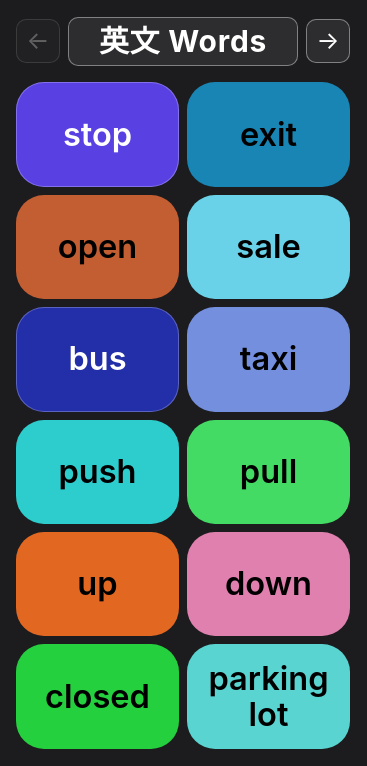
plays a Taigi audio clip on the food page
The image size is (367, 766).
Later steps or results of the test are not shown.
Click the button named "Next page": click(328, 41) [306,19,350,63]
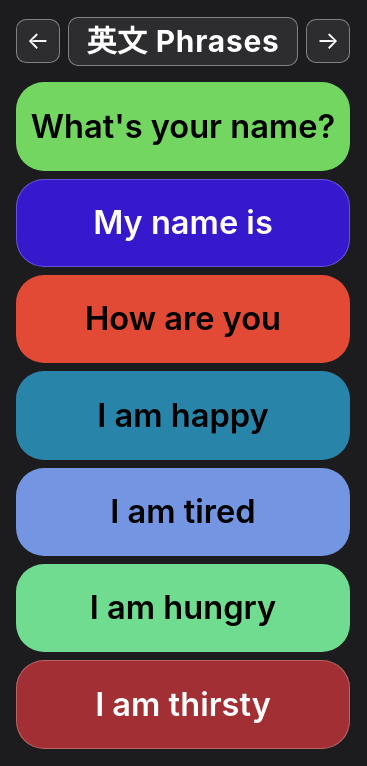
Click the button named "Next page": click(328, 41) [306,19,350,63]
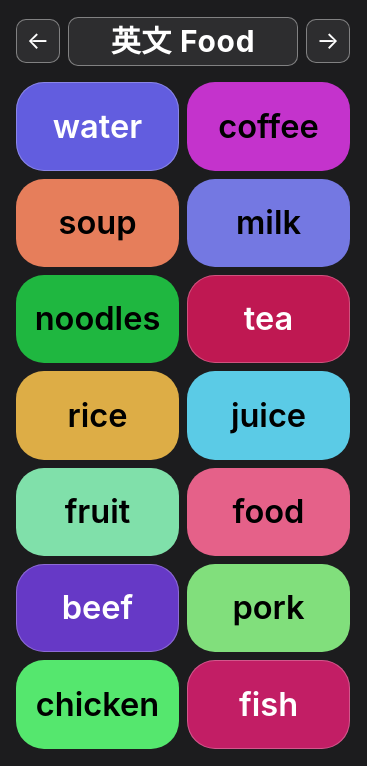
Click the button with aria-label "switch language": click(183, 41) [68,17,298,66]
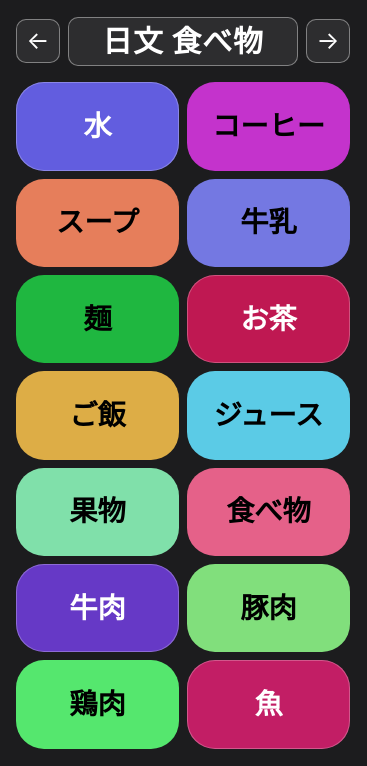
Click the button with aria-label "switch language": click(183, 41) [68,17,298,66]
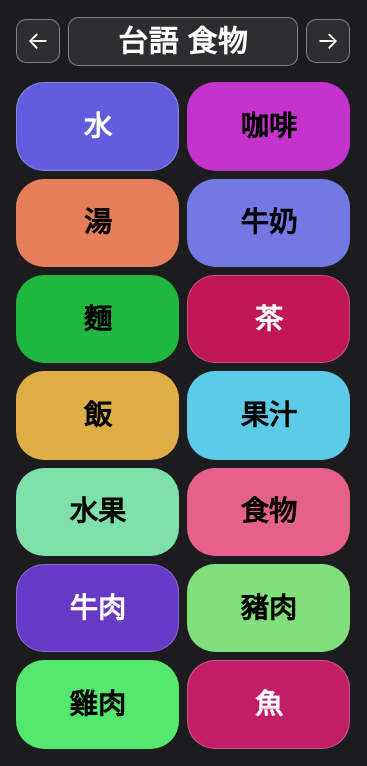
Click the button "牛肉": click(98, 608) [16,564,179,652]
Expected: the button "牛肉" is shown, [16,564,179,652]
